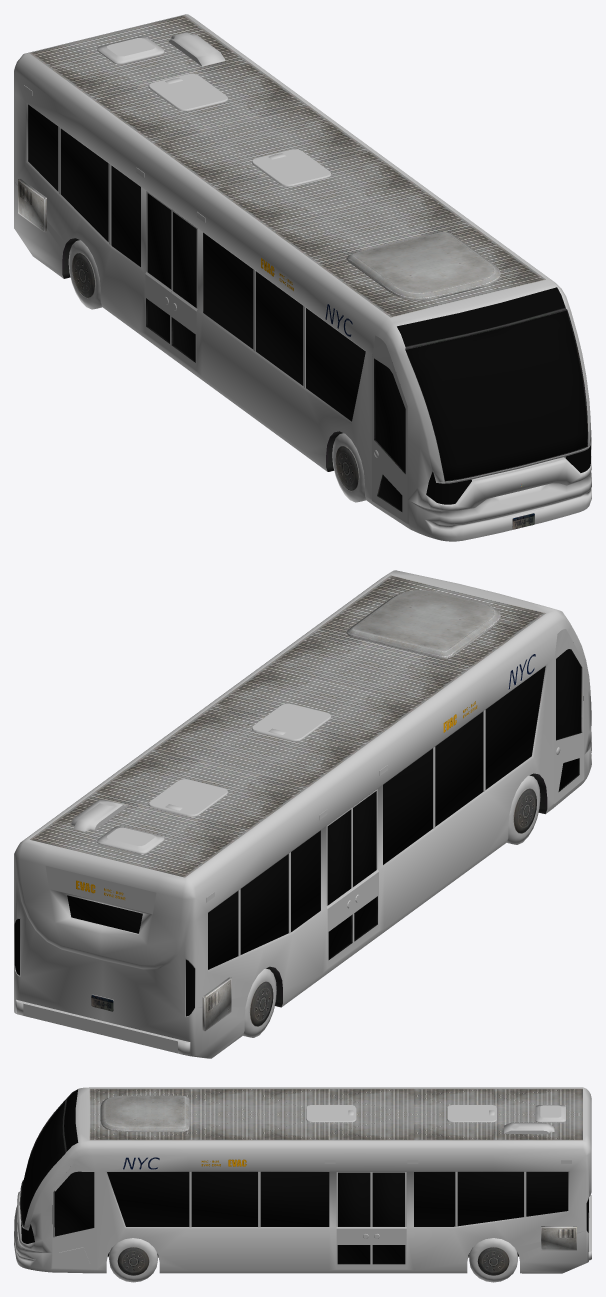
File: Bus.obj
The picture shows the model from 3 angles, top to bottom: view 1: azimuth 30°, elevation 25°; view 2: azimuth 150°, elevation 25°; view 3: azimuth 270°, elevation 25°; orthographic projection. The views are drawn at different scales.
Parts seen in each view (by area): view 1: BusMAT1, BusGlass, BusMAT2, BusMAT3; view 2: BusMAT1, BusMAT2, BusGlass, BusMAT3; view 3: BusMAT1, BusGlass, BusMAT2, BusMAT3.
Part boxes in pixels (box(x1,y1,x2,y2)): BusMAT1: box(14, 14, 591, 541); BusGlass: box(28, 105, 590, 510); BusMAT2: box(18, 15, 588, 511); BusMAT3: box(72, 252, 359, 491); BusMAT1: box(14, 570, 591, 1058); BusMAT2: box(30, 575, 583, 1030); BusGlass: box(15, 649, 581, 1016); BusMAT3: box(250, 788, 536, 1026); BusMAT1: box(14, 1087, 591, 1282); BusGlass: box(20, 1090, 588, 1263); BusMAT2: box(19, 1088, 582, 1264); BusMAT3: box(117, 1247, 509, 1275).
Bounding box in the file's own units: 6.13 × 6.62 × 23.98.
